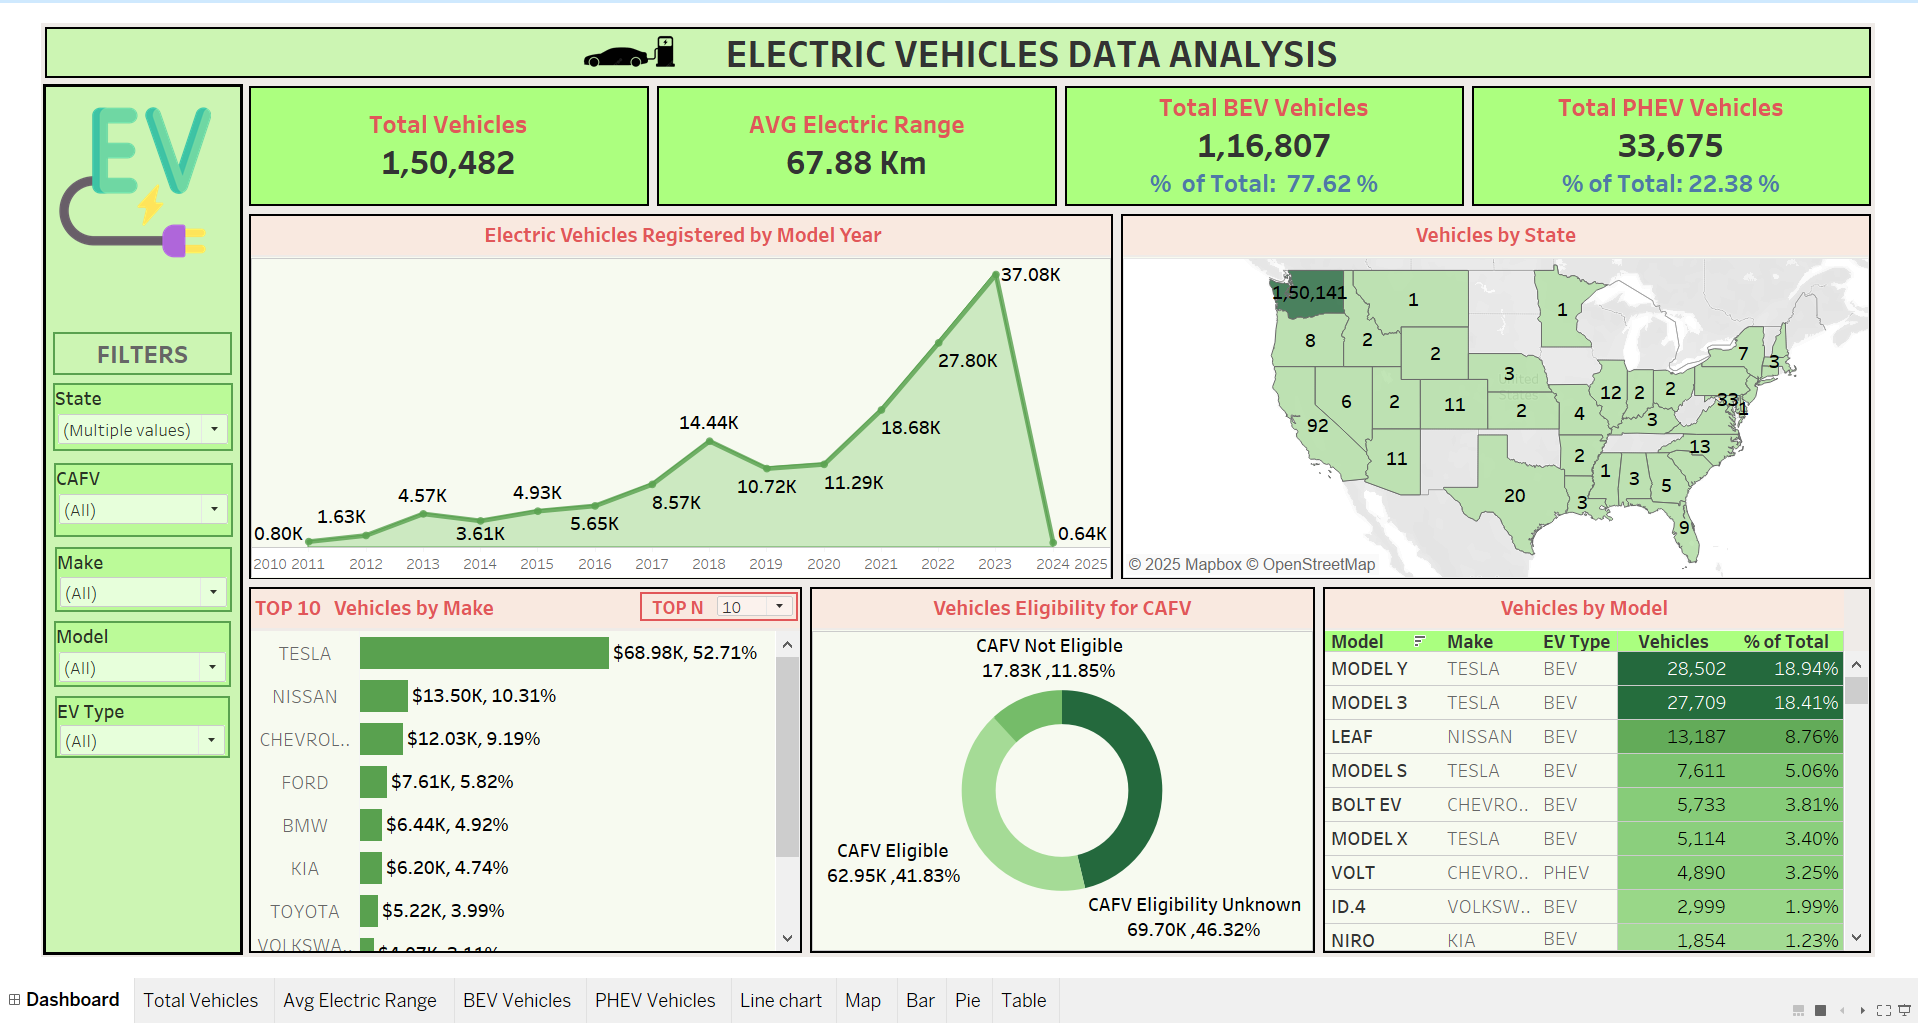

This screenshot's page, from the dashboard's own definition file:
{"tool":"tableau","page":{"name":"Dashboard ","canvas":[1850,950],"ordinal":0},"visuals":[{"type":"title","box":[8,8,1834,59.2]},{"type":"image","param":"C:/Users/Falaq Faiza/Desktop/ITvedant/Tableua/Classwork/Electric Vehicle Data/pn","box":[528,15,136,42]},{"type":"worksheet","title":"Total Vehicles","mark":"Automatic","box":[212,67,408,128]},{"type":"worksheet","title":"Avg Electric Range","mark":"Automatic","box":[620,67,408,128]},{"type":"worksheet","title":"BEV Vehicles","mark":"Automatic","box":[1028,67,407,128]},{"type":"worksheet","title":"PHEV Vehicles","mark":"Automatic","box":[1435,67,407,128]},{"type":"image","param":"C:/Users/Falaq Faiza/Desktop/ITvedant/Tableua/Classwork/Electric Vehicle Data/ev","box":[26,91,165,152]},{"type":"worksheet","title":"Line chart","mark":"Area","rows":["Calculation_639511161394237440","Calculation_639511161394237440"],"cols":["Model Year"],"box":[211.8,194.8,872.3,373.6]},{"type":"worksheet","title":"Map ","mark":"Automatic","box":[1084.1,194.8,757.9,373.6]},{"type":"text","box":[20,317,179,43]},{"type":"filter","title":"Map ","param":"[federated.1ghfcr80x55mbz1fyik981c6txuq].[none:State:nk]","box":[20,368,180,68]},{"type":"filter","title":"Pie","param":"[federated.1ghfcr80x55mbz1fyik981c6txuq].[none:Calculation_1587237408378146820:n","box":[21,448,179,74]},{"type":"filter","title":"Table","param":"[federated.1ghfcr80x55mbz1fyik981c6txuq].[none:Make:nk]","box":[22,532,177,65]},{"type":"worksheet","title":"Bar","mark":"Automatic","rows":["Make"],"cols":["Calculation_639511161394237440"],"box":[211.8,568.4,561.2,373.6]},{"type":"worksheet","title":"Pie","mark":"Pie","rows":["Calculation_1587237408374398977","Calculation_1587237408374411267"],"box":[773,568.4,513,373.6]},{"type":"worksheet","title":"Table","mark":"Square","rows":["Model","Make","Electric Vehicle Type"],"box":[1286,568.4,556,373.6]},{"type":"parameter","param":"[Parameters].[Parameter 1]","box":[607,577,158,29]},{"type":"filter","title":"Table","param":"[federated.1ghfcr80x55mbz1fyik981c6txuq].[none:Model:nk]","box":[21,606,177,66]},{"type":"filter","title":"Table","param":"[federated.1ghfcr80x55mbz1fyik981c6txuq].[none:Electric Vehicle Type:nk]","box":[22,681,175,62]}]}

Visuals, with their boxes in screenshot pixels (x1, y1, x2, y2):
title: [x1=53, y1=23, x2=1861, y2=81]
image: [x1=566, y1=30, x2=700, y2=71]
"Total Vehicles" worksheet: [x1=254, y1=81, x2=656, y2=207]
"Avg Electric Range" worksheet: [x1=656, y1=81, x2=1059, y2=207]
"BEV Vehicles" worksheet: [x1=1059, y1=81, x2=1460, y2=207]
"PHEV Vehicles" worksheet: [x1=1460, y1=81, x2=1861, y2=207]
image: [x1=71, y1=105, x2=233, y2=255]
"Line chart" worksheet (Area marks): [x1=254, y1=207, x2=1114, y2=576]
"Map " worksheet: [x1=1114, y1=207, x2=1861, y2=576]
text: [x1=65, y1=328, x2=241, y2=370]
"Map " filter: [x1=65, y1=378, x2=242, y2=445]
"Pie" filter: [x1=66, y1=457, x2=242, y2=530]
"Table" filter: [x1=67, y1=540, x2=241, y2=604]
"Bar" worksheet: [x1=254, y1=576, x2=807, y2=944]
"Pie" worksheet (Pie marks): [x1=807, y1=576, x2=1313, y2=944]
"Table" worksheet (Square marks): [x1=1313, y1=576, x2=1861, y2=944]
parameter: [x1=644, y1=584, x2=799, y2=613]
"Table" filter: [x1=66, y1=613, x2=240, y2=678]
"Table" filter: [x1=67, y1=687, x2=239, y2=748]
